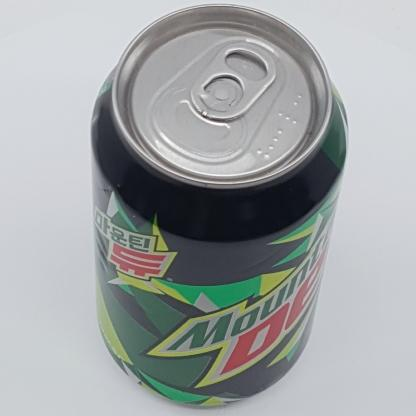------355ML: (89, 4, 348, 408)
